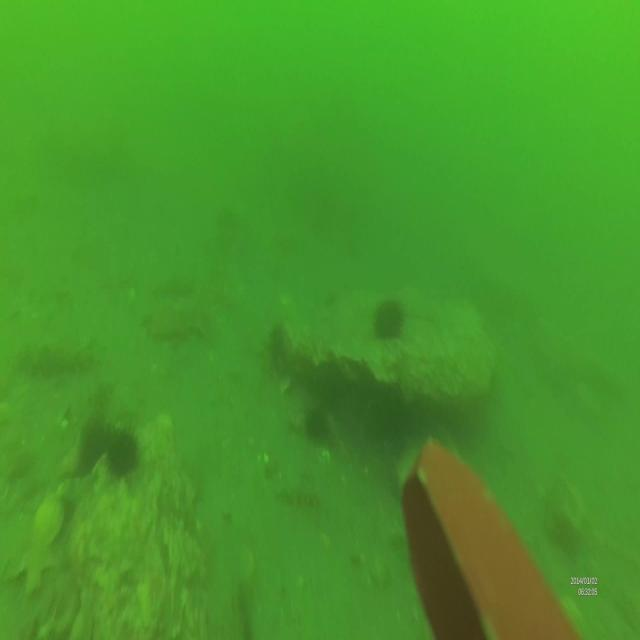echinus: (79, 416, 108, 473), (372, 294, 407, 340), (109, 427, 140, 477), (306, 406, 332, 442)
holothurian: (12, 334, 97, 380), (276, 482, 324, 514)
